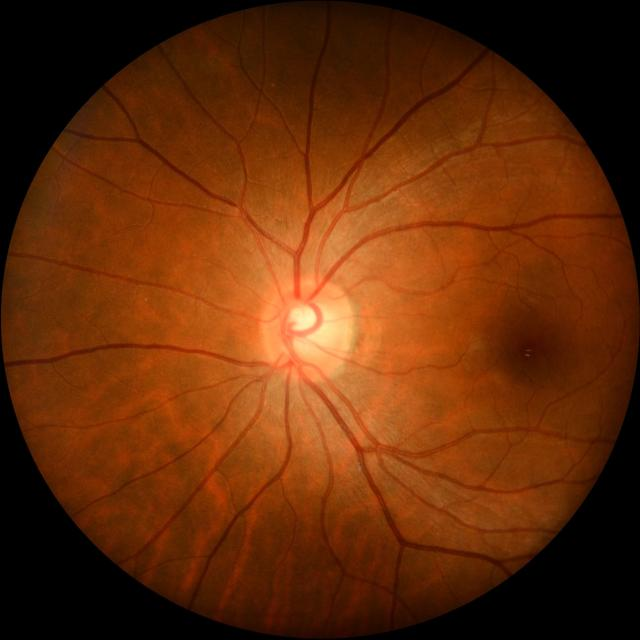OC: (284, 302, 331, 358)
OD: (262, 276, 353, 380)
